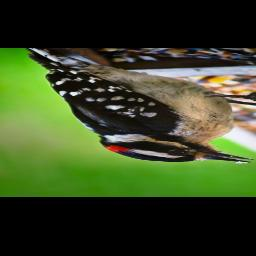Woodpecker: (25, 48, 256, 164)
